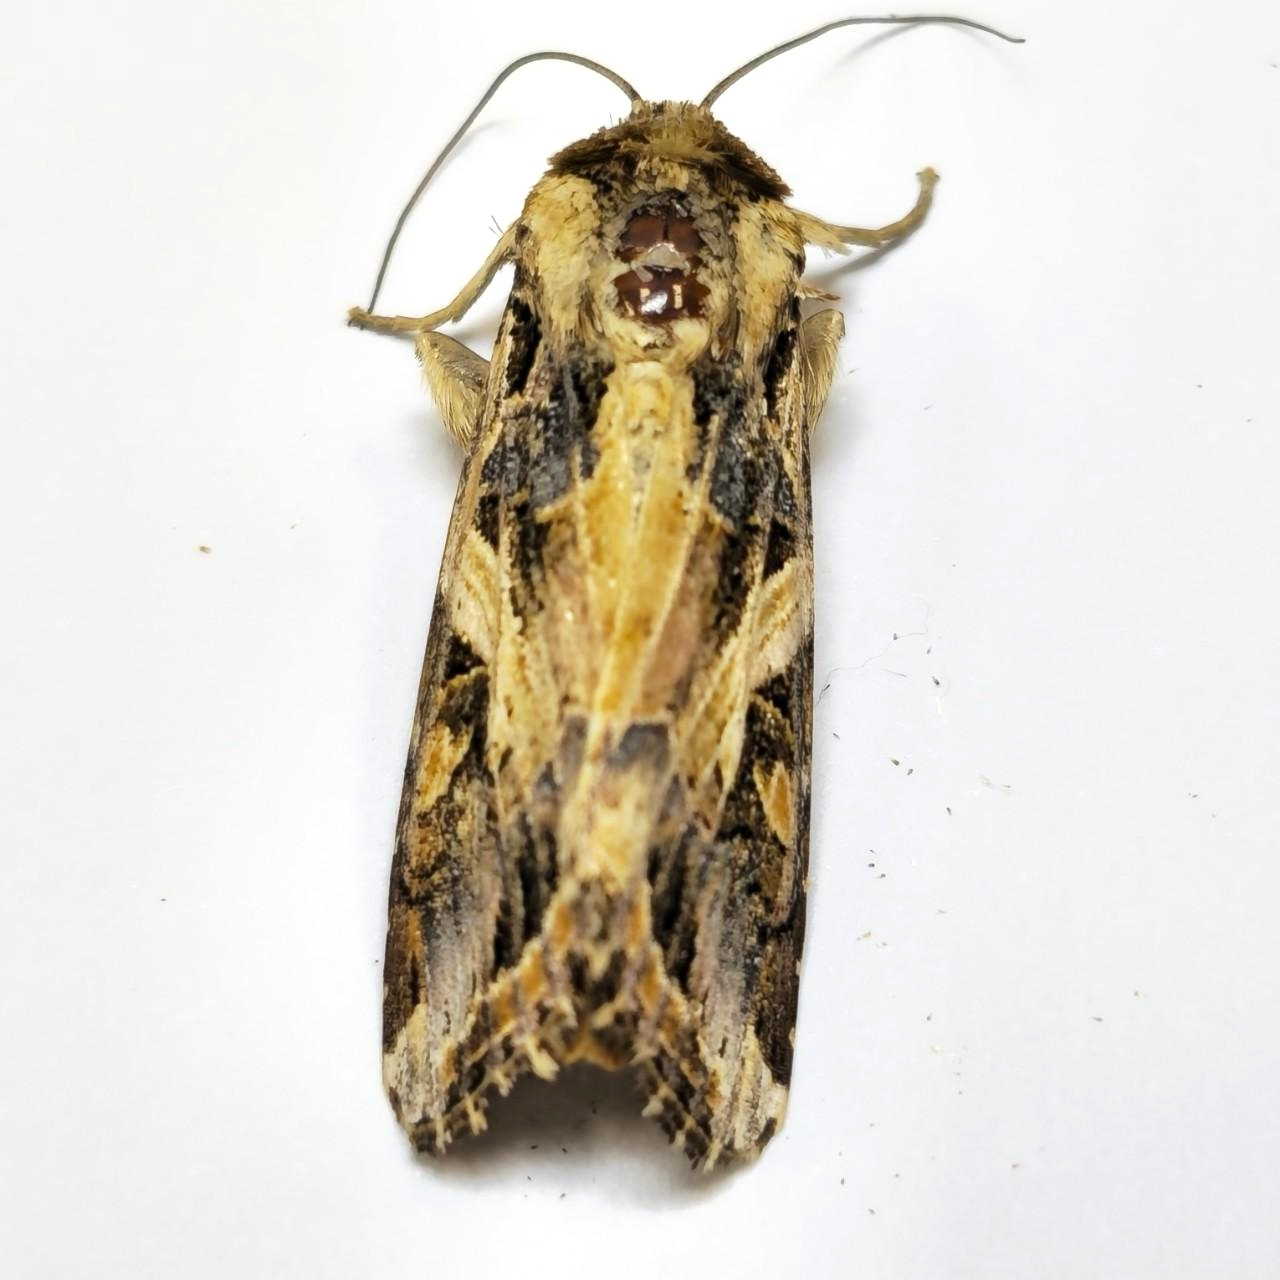Spodoptera litura: (348, 15, 1028, 1179)
